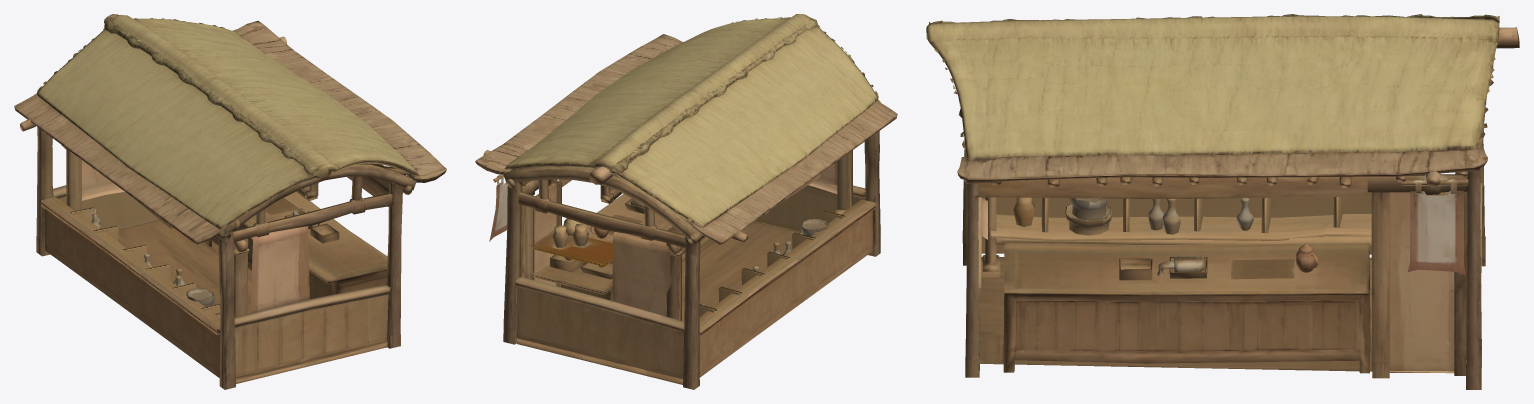
File: 杂物摊贩.glb
3 views of the same model, side by side, from view 1: azimuth 30°, elevation 25°; view 2: azimuth 150°, elevation 25°; view 3: azimuth 270°, elevation 25° (orthographic). The views are drawn at different scales.
Visible parts, largest first — view 1: tripo_node_0167f85c-0e29-4ad0-ad44-448baf8e2455; view 2: tripo_node_0167f85c-0e29-4ad0-ad44-448baf8e2455; view 3: tripo_node_0167f85c-0e29-4ad0-ad44-448baf8e2455.
Boxes of the visible parts, bbox=[...] form: tripo_node_0167f85c-0e29-4ad0-ad44-448baf8e2455: bbox=[14, 14, 446, 389]; tripo_node_0167f85c-0e29-4ad0-ad44-448baf8e2455: bbox=[475, 14, 897, 389]; tripo_node_0167f85c-0e29-4ad0-ad44-448baf8e2455: bbox=[926, 14, 1519, 389].
Size of the model in its own units: 0.7085 by 0.5601 by 0.9995.
1 material, 1 textured.
